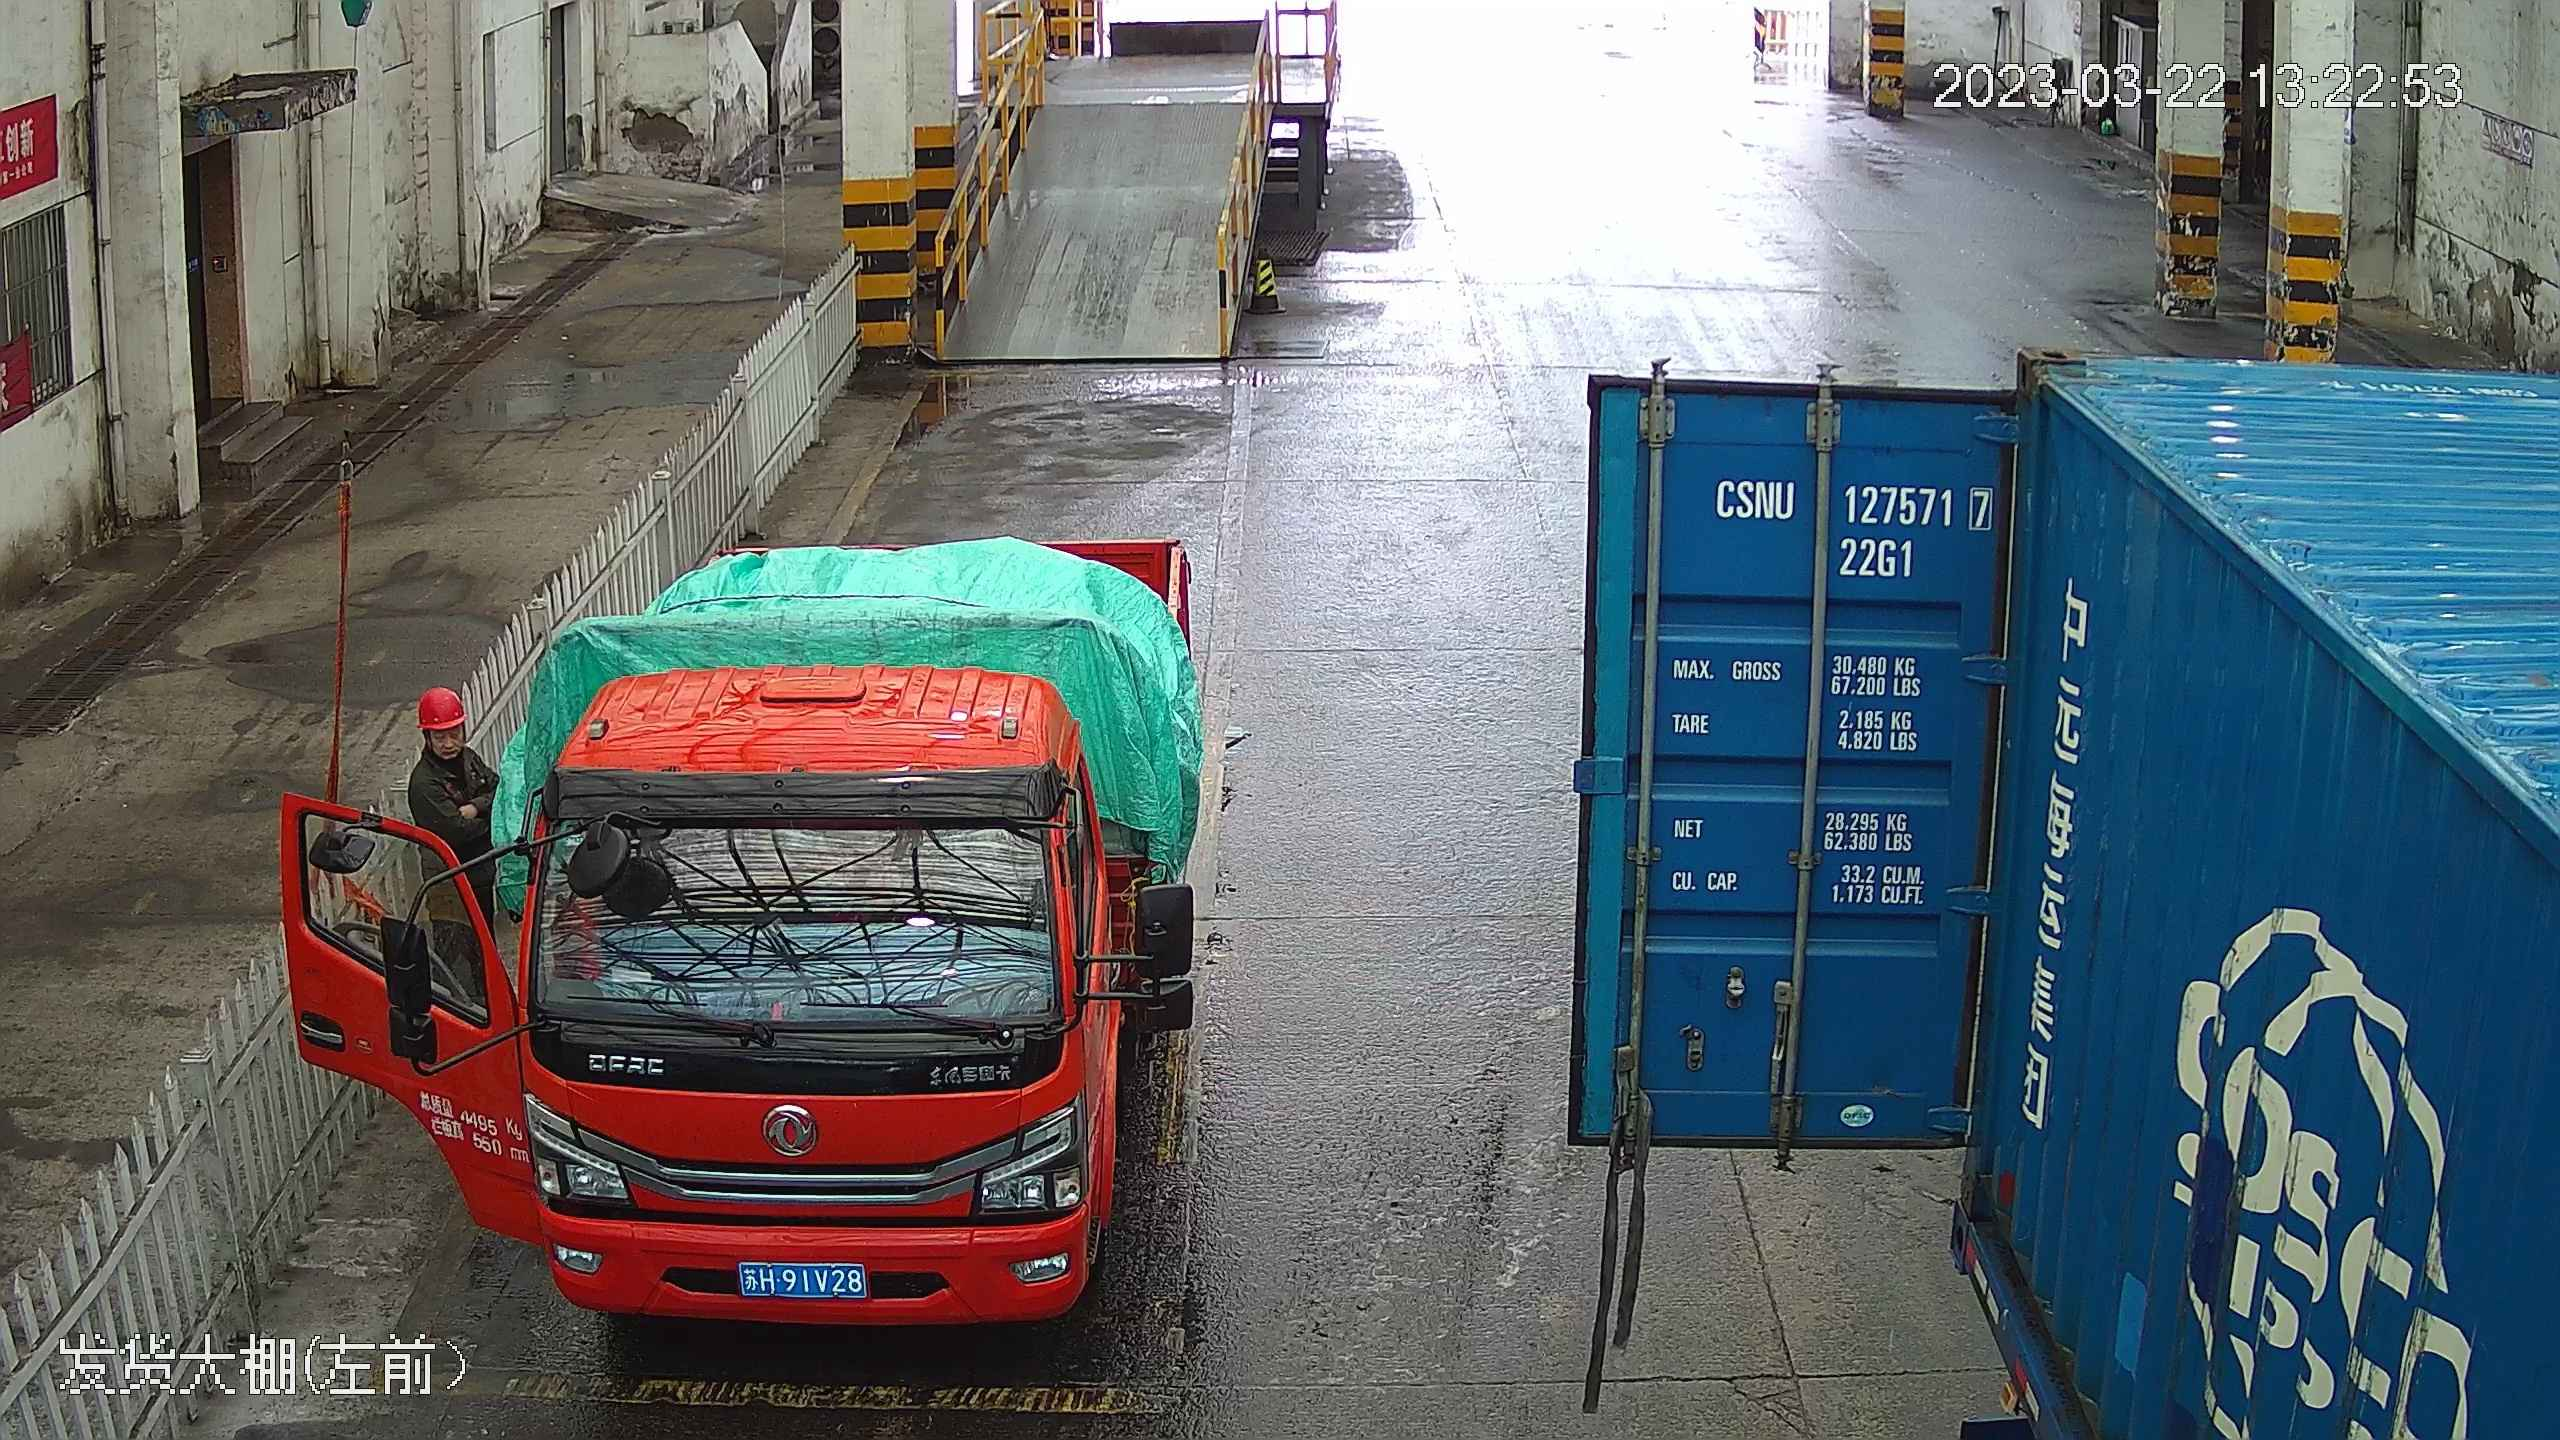head: (399, 683, 499, 793)
helmet: (410, 682, 470, 730)
people: (394, 681, 503, 967)
truck: (296, 2, 1240, 1386), (1528, 342, 2552, 1290)
